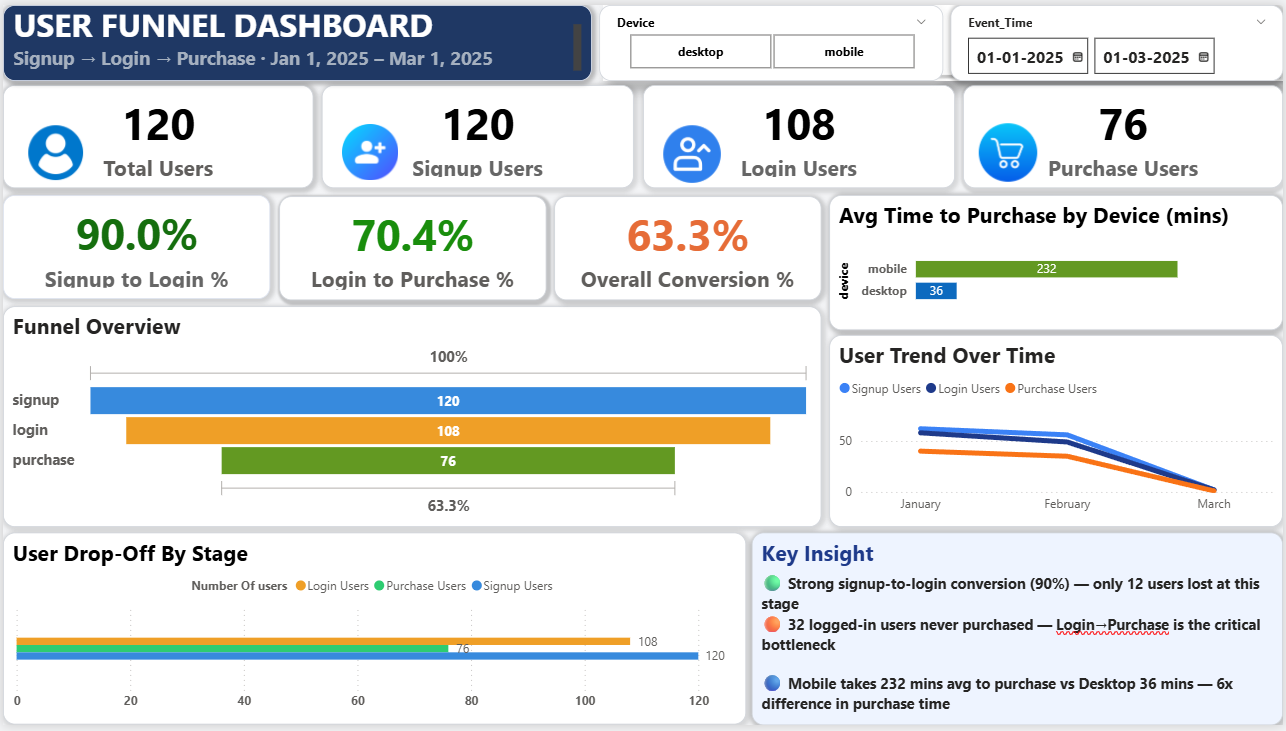

Layout of this report page (visuals, bound fields, positions):
{"tool":"powerbi","page":{"name":"Page 1","canvas":[1280,720],"ordinal":0},"visuals":[{"type":"shape","box":[600,0,680,75.7],"z":0},{"type":"card","fields":{"Values":["user_events.Signup to Login %"]},"box":[0,190,267.5,103.8],"z":1000},{"type":"card","fields":{"Values":["user_events.Login Users"]},"box":[640,80.3,311.6,103.1],"z":2000},{"type":"card","fields":{"Values":["user_events.Signup Users"]},"box":[318.8,80.3,311.6,103.1],"z":3000},{"type":"card","fields":{"Values":["user_events.Purchase Users"]},"box":[960,80.3,320,103.1],"z":4000},{"type":"card","fields":{"Values":["user_events.Total Users"]},"box":[0,80.3,310.4,103.1],"z":5000},{"type":"funnel","title":"Funnel Overview","fields":{"Category":["user_events.event_name"],"Y":["Count(user_events.user_id)"]},"box":[0,301.5,818.5,220.8],"z":6000},{"type":"clusteredBarChart","title":"Avg Time to Purchase by Device (mins)","fields":{"Category":["user_events.device"],"Y":["user_events.Avg Time to Purchase (mins)"]},"box":[826.2,190,453.8,135],"z":7000},{"type":"lineChart","title":"User Trend Over Time","fields":{"Category":["user_events.event_time.Variation.Date Hierarchy.Month"],"Y":["user_events.Signup Users","user_events.Login Users","user_events.Purchase Users"]},"box":[826.2,330,453.8,192.3],"z":8000},{"type":"clusteredBarChart","title":"User Drop-Off By Stage","fields":{"Y":["user_events.Login Users","user_events.Purchase Users","user_events.Signup Users"]},"box":[0,527.7,743.1,192.3],"z":9000},{"type":"textbox","box":[0,0,588.6,75.7],"z":10000},{"type":"slicer","fields":{"Values":["user_events.device"]},"box":[595.7,0,344.3,75.7],"z":11000},{"type":"slicer","fields":{"Values":["user_events.event_time"]},"box":[947.1,0,332.9,75.7],"z":12000},{"type":"textbox","title":"Key Insight","box":[748.8,527.5,531.2,192.5],"z":13000},{"type":"card","fields":{"Values":["user_events.Login to Purchase %"]},"box":[275.6,191.2,267.5,103.8],"z":14000},{"type":"card","fields":{"Values":["user_events.Overall Conversion %"]},"box":[551.2,191.2,267.5,103.8],"z":15000},{"type":"actionButton","box":[21.4,115.7,110,62.9],"z":16000},{"type":"actionButton","box":[335,115,90.6,64.4],"z":17000},{"type":"actionButton","box":[655.6,115.6,152.5,65.6],"z":18000},{"type":"actionButton","box":[968.1,111.2,96.2,72.5],"z":19000}]}

Visuals, with their boxes in screenshot pixels (x1, y1, x2, y2), scaled from the page's 1280x720 canvas onto the 1286x731 screenshot:
shape: (left=603, top=0, right=1285, bottom=77)
card - user_events.Signup to Login %: (left=0, top=193, right=269, bottom=298)
card - user_events.Login Users: (left=643, top=82, right=956, bottom=186)
card - user_events.Signup Users: (left=320, top=82, right=633, bottom=186)
card - user_events.Purchase Users: (left=964, top=82, right=1285, bottom=186)
card - user_events.Total Users: (left=0, top=82, right=312, bottom=186)
"Funnel Overview" funnel: (left=0, top=306, right=822, bottom=530)
"Avg Time to Purchase by Device (mins)" clusteredBarChart: (left=830, top=193, right=1285, bottom=330)
"User Trend Over Time" lineChart: (left=830, top=335, right=1285, bottom=530)
"User Drop-Off By Stage" clusteredBarChart: (left=0, top=536, right=747, bottom=730)
textbox: (left=0, top=0, right=591, bottom=77)
slicer - user_events.device: (left=598, top=0, right=944, bottom=77)
slicer - user_events.event_time: (left=952, top=0, right=1285, bottom=77)
"Key Insight" textbox: (left=752, top=536, right=1285, bottom=730)
card - user_events.Login to Purchase %: (left=277, top=194, right=546, bottom=300)
card - user_events.Overall Conversion %: (left=554, top=194, right=823, bottom=300)
actionButton: (left=22, top=117, right=132, bottom=181)
actionButton: (left=337, top=117, right=428, bottom=182)
actionButton: (left=659, top=117, right=812, bottom=184)
actionButton: (left=973, top=113, right=1069, bottom=187)
